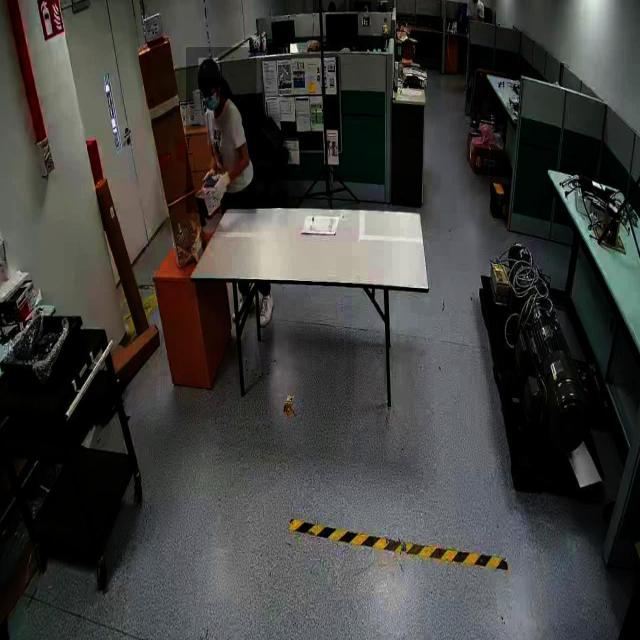face_mask: (201, 79, 221, 114)
hand_glove: (208, 164, 232, 206)
head_nohelmet: (198, 58, 220, 78)
person: (186, 47, 257, 214)
shoes: (254, 291, 276, 329)
